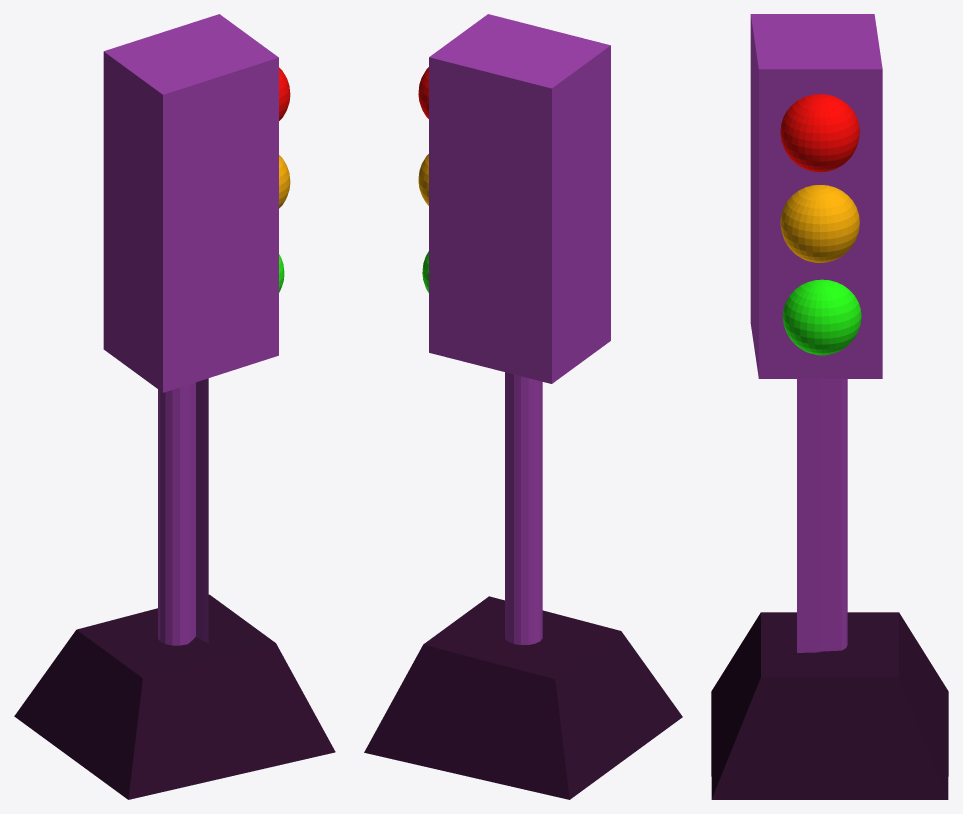
The model's file is trafficLight.obj.
3 renders of one model, left to right at view 1: azimuth 30°, elevation 25°; view 2: azimuth 150°, elevation 25°; view 3: azimuth 270°, elevation 25°, orthographic. The views are drawn at different scales.
Visible parts, largest first — view 1: Stoplight; view 2: Stoplight; view 3: Stoplight.
Part boxes in pixels (x1,y1,x2,y2): Stoplight: (14, 14, 335, 799); Stoplight: (364, 14, 682, 799); Stoplight: (711, 14, 948, 799).
Bounding box in the file's own units: 2.49 × 7.83 × 2.35.
